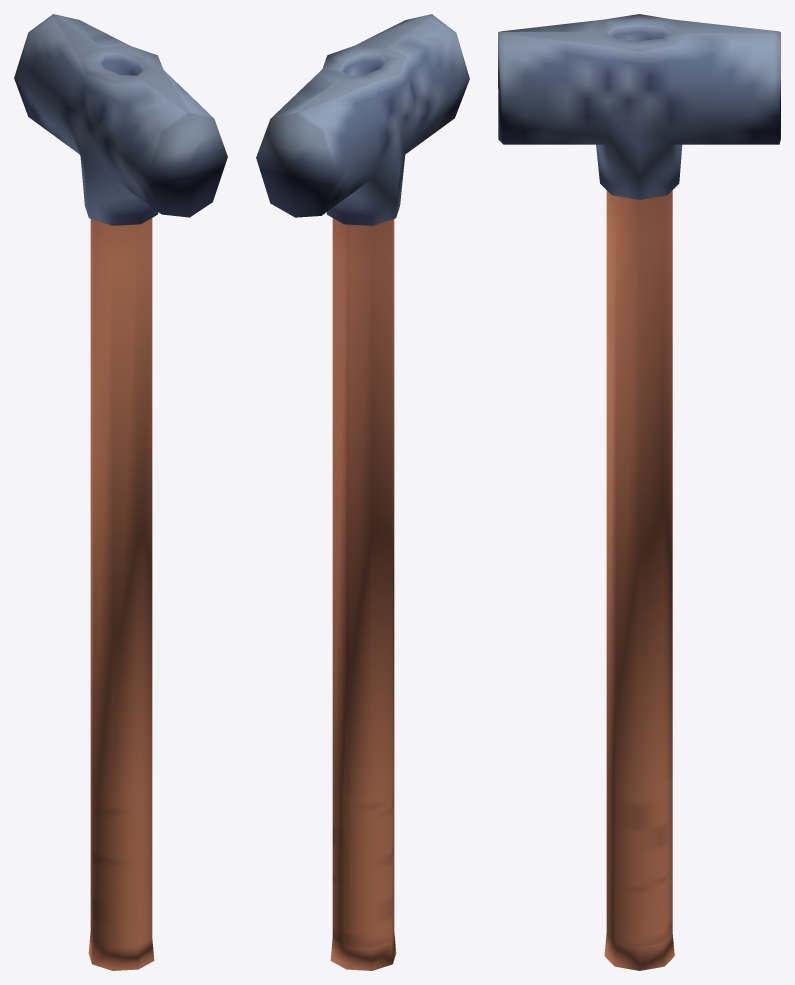
File: marreta.fbx
3 views of the same model, side by side, from view 1: azimuth 30°, elevation 25°; view 2: azimuth 150°, elevation 25°; view 3: azimuth 270°, elevation 25° (orthographic). The views are drawn at different scales.
Visible parts, largest first — view 1: Marreta; view 2: Marreta; view 3: Marreta.
Part boxes in pixels (left/top/right/bottom): Marreta: left=14, top=14, right=227, bottom=970; Marreta: left=256, top=14, right=469, bottom=970; Marreta: left=498, top=14, right=780, bottom=970.
Bounding box in the file's own units: 8.7 × 93.14 × 25.84.
